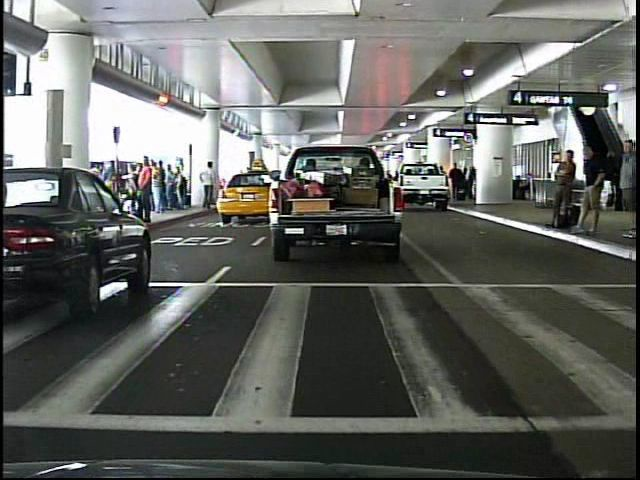person: (574, 140, 609, 239), (544, 144, 579, 238), (605, 137, 636, 242), (135, 154, 157, 222), (200, 160, 220, 214)
